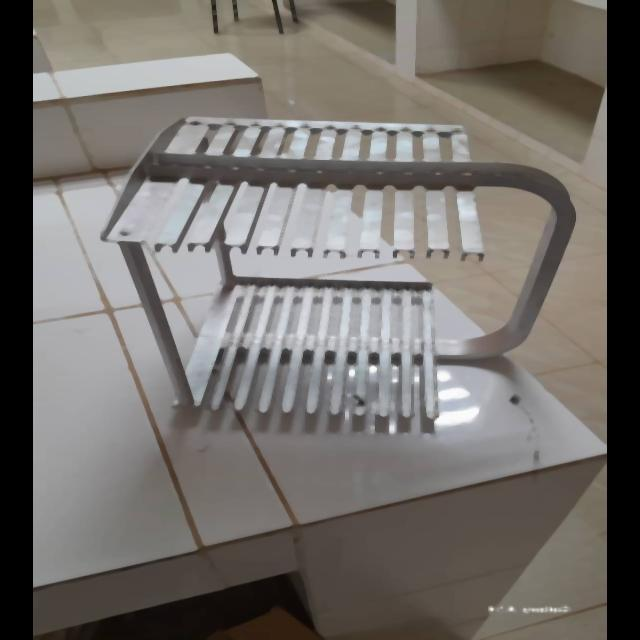Plate Rack: (91, 109, 578, 432)
